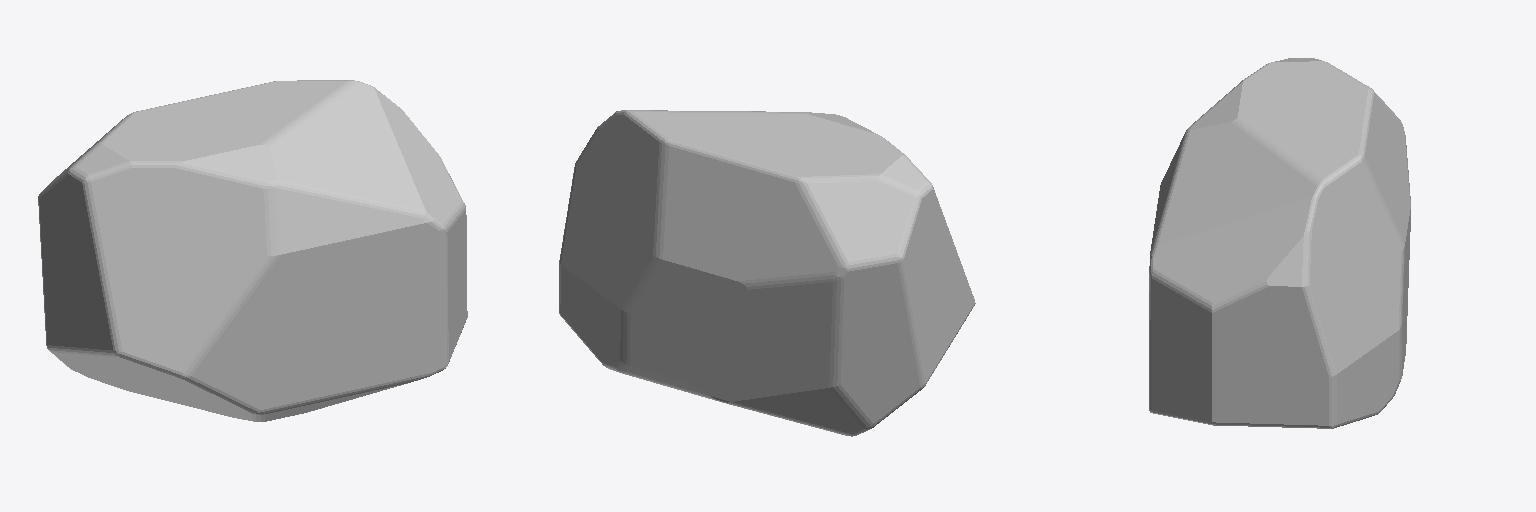
The model's file is Piedra_2.obj.
3 renders of one model, left to right at view 1: azimuth 30°, elevation 25°; view 2: azimuth 150°, elevation 25°; view 3: azimuth 270°, elevation 25°, orthographic.
Visible parts, largest first — view 1: Cube.003_Cube.004; view 2: Cube.003_Cube.004; view 3: Cube.003_Cube.004.
Boxes of the visible parts, x1,y1,x2,y2 form: Cube.003_Cube.004: [38, 80, 467, 421]; Cube.003_Cube.004: [559, 110, 975, 436]; Cube.003_Cube.004: [1149, 58, 1410, 428].
Size of the model in its own units: 25.53 by 17.5 by 15.8.